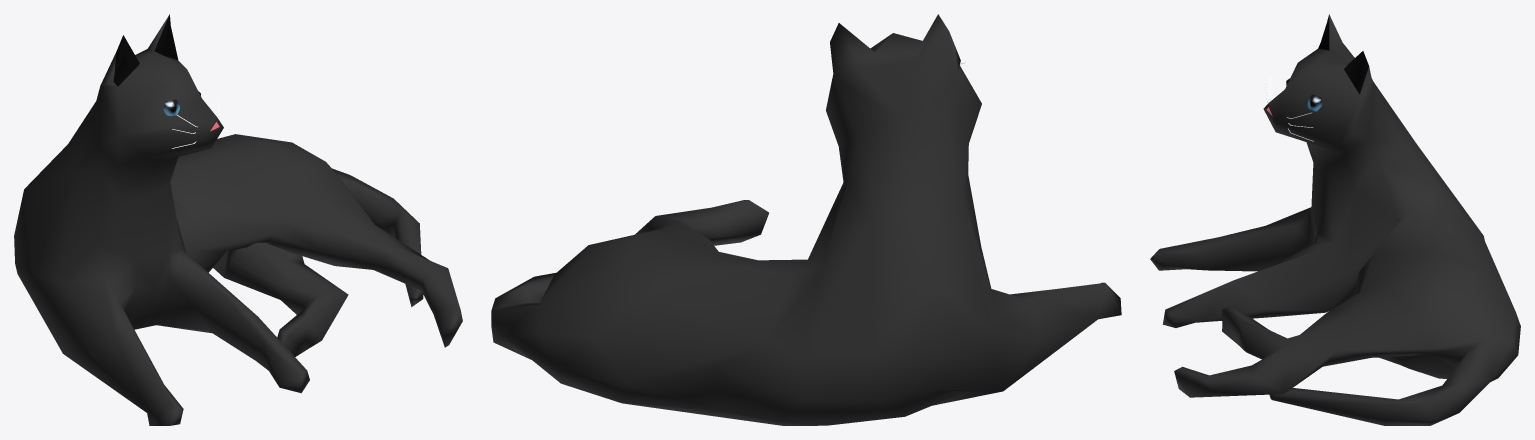
The model's file is Cat02.glb.
3 views of the same model, side by side, from view 1: azimuth 30°, elevation 25°; view 2: azimuth 150°, elevation 25°; view 3: azimuth 270°, elevation 25° (orthographic). The views are drawn at different scales.
Parts seen in each view (by area): view 1: Cat02; view 2: Cat02; view 3: Cat02.
Boxes of the visible parts, x1,y1,x2,y2 form: Cat02: (14,14,462,425); Cat02: (491,14,1121,425); Cat02: (1150,14,1520,425).
Size of what is drawn, in the model's own units: 0.6512 by 0.4981 by 0.6043.
Materials: 1 (1 with a texture image).
